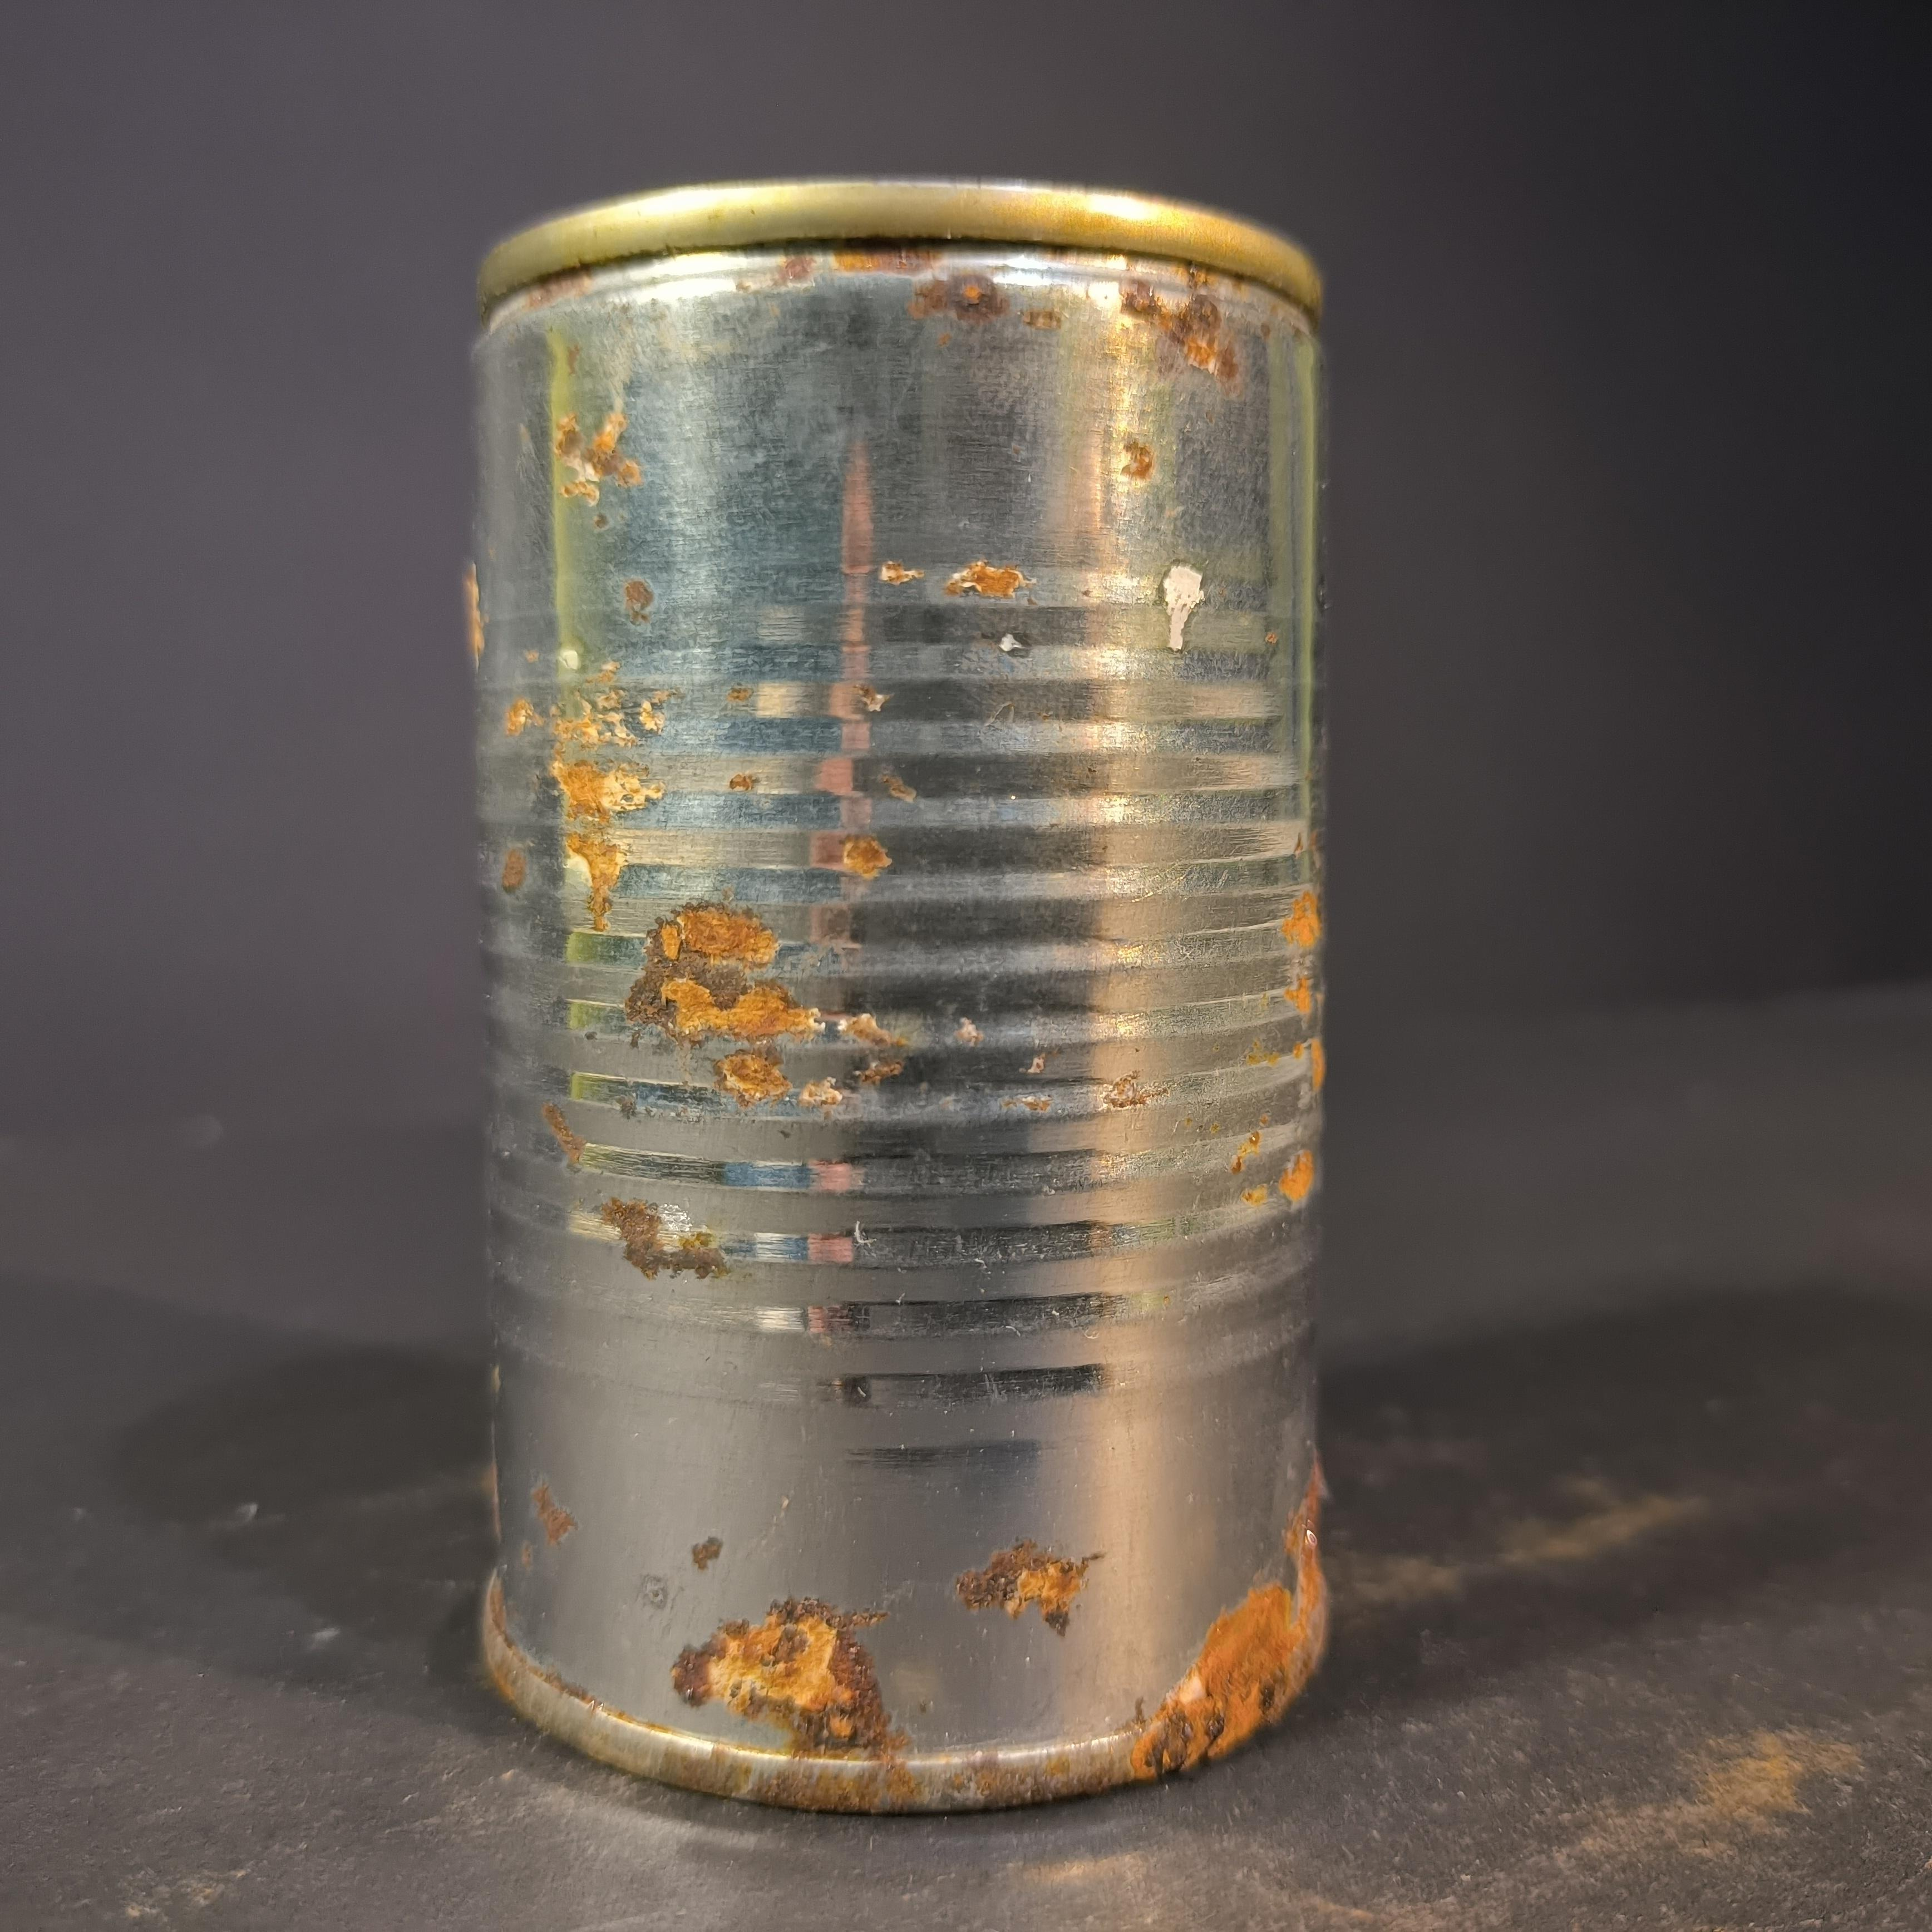Rusted: (448, 136, 1372, 1839)
